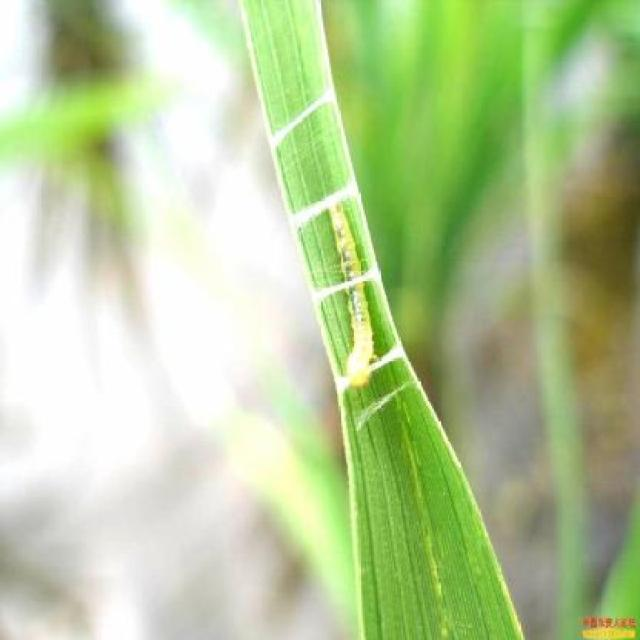leaf-folder: (310, 183, 393, 406)
